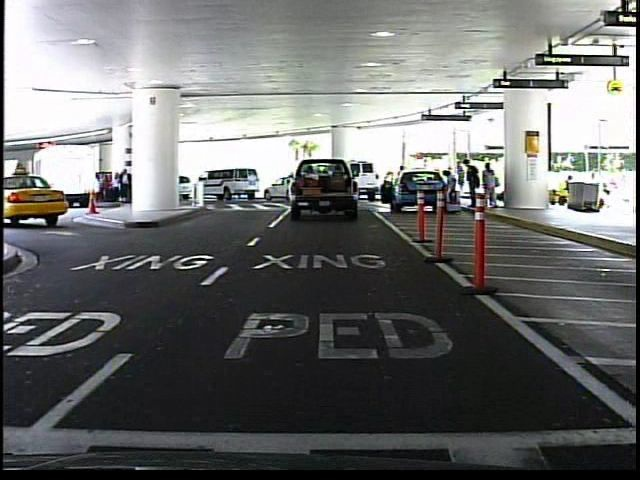person: (443, 166, 461, 214), (395, 162, 411, 203)
